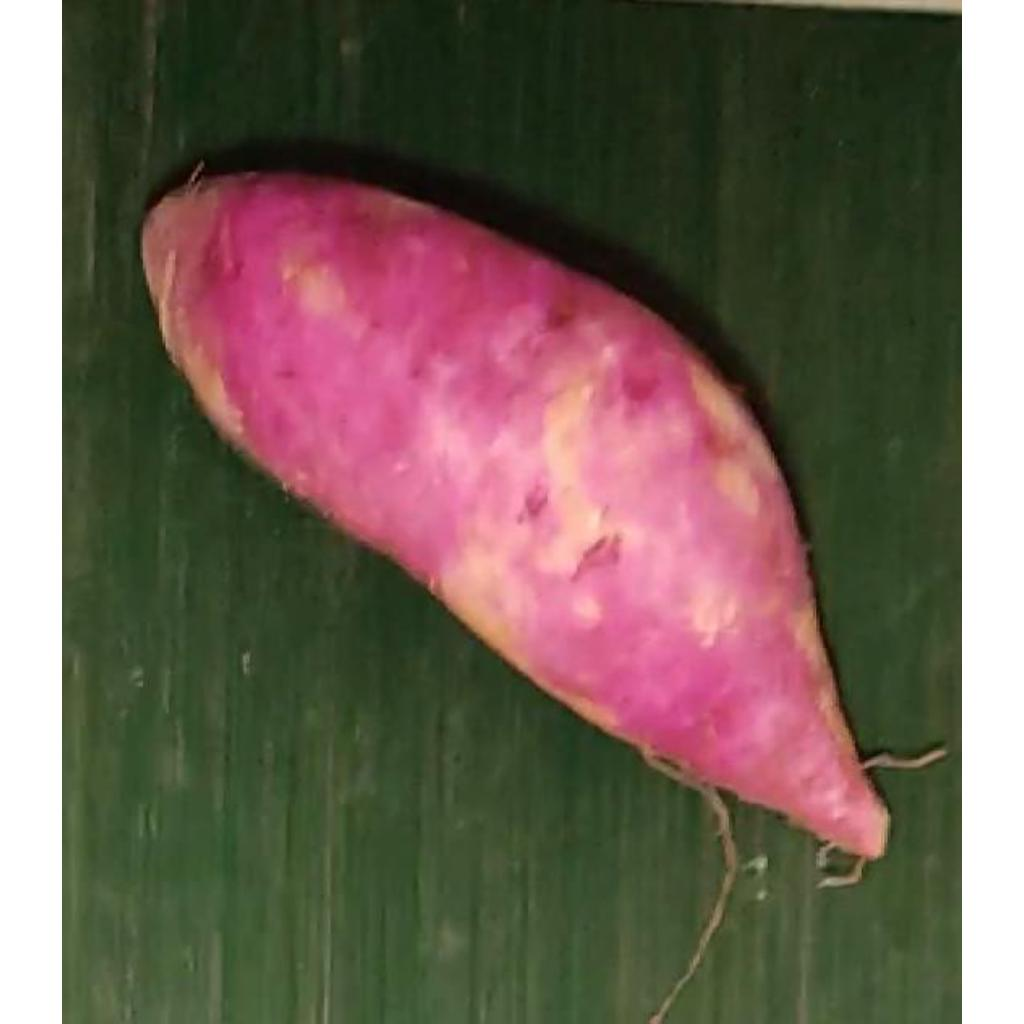Sweet Potato: (147, 174, 917, 867)
